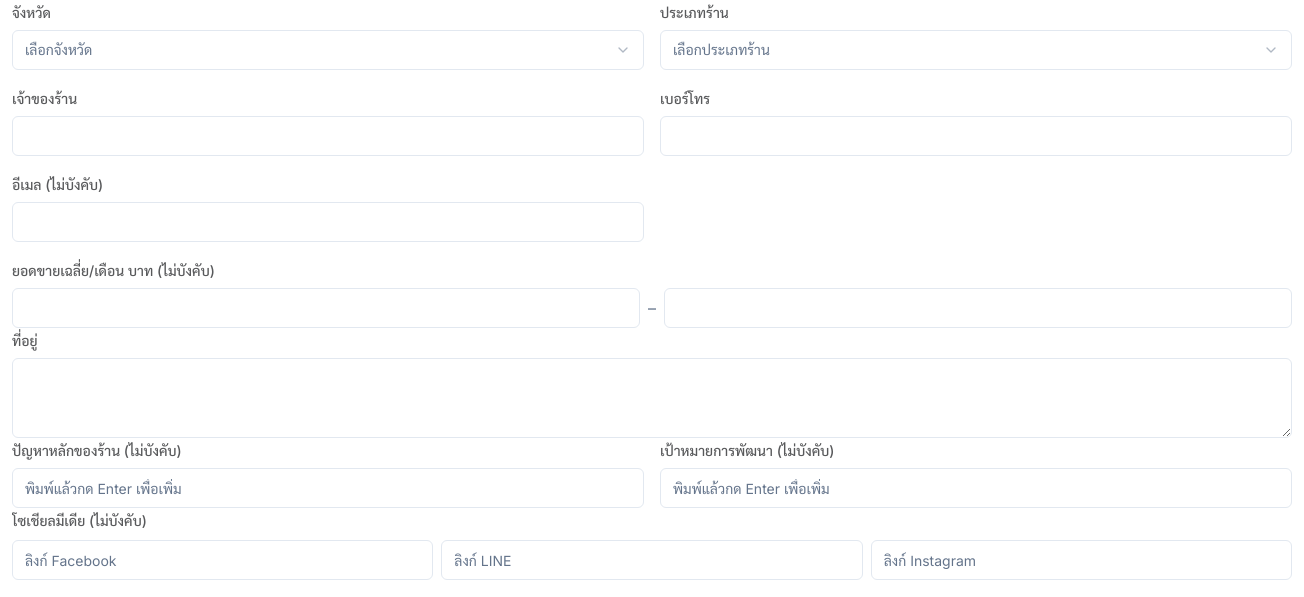
Test: StoreGeneralInfoFields › selects a store type
This screenshot has width=1304, height=597.
Click the dropdown labelled "ประเภทร้าน" at (721, 50), box [660, 30, 1292, 70]
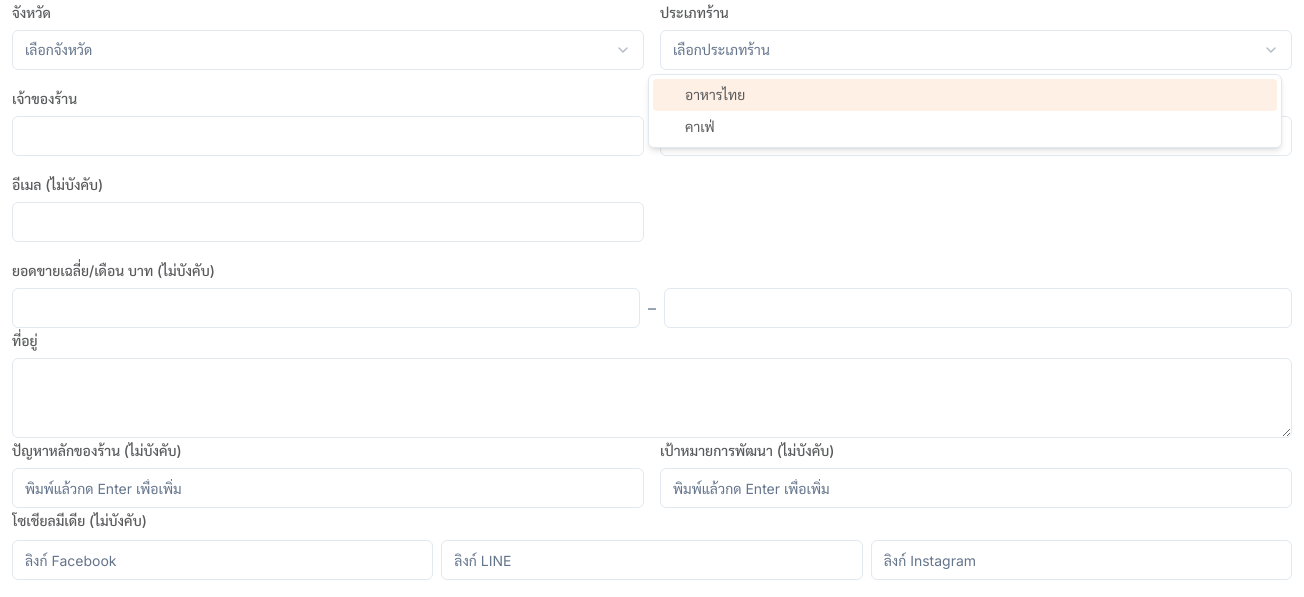
Click the option "คาเฟ่" at (700, 126), box [685, 118, 715, 135]
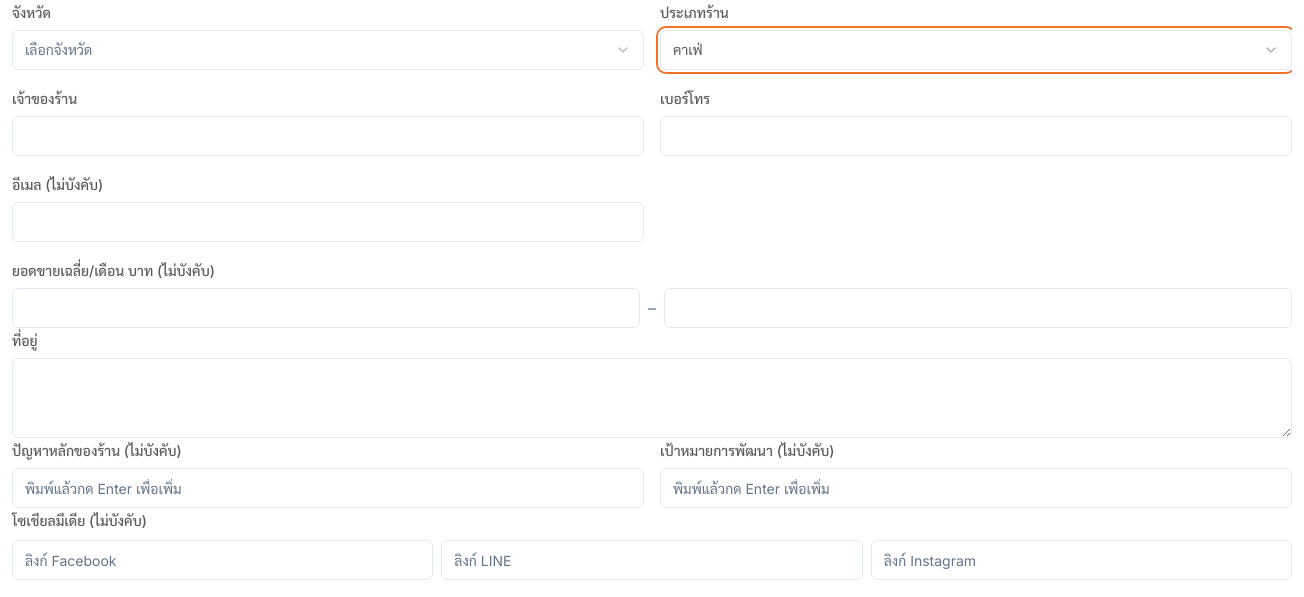
Result: the dropdown named "ประเภทร้าน" reads "คาเฟ่" at [660, 30, 1292, 70]
